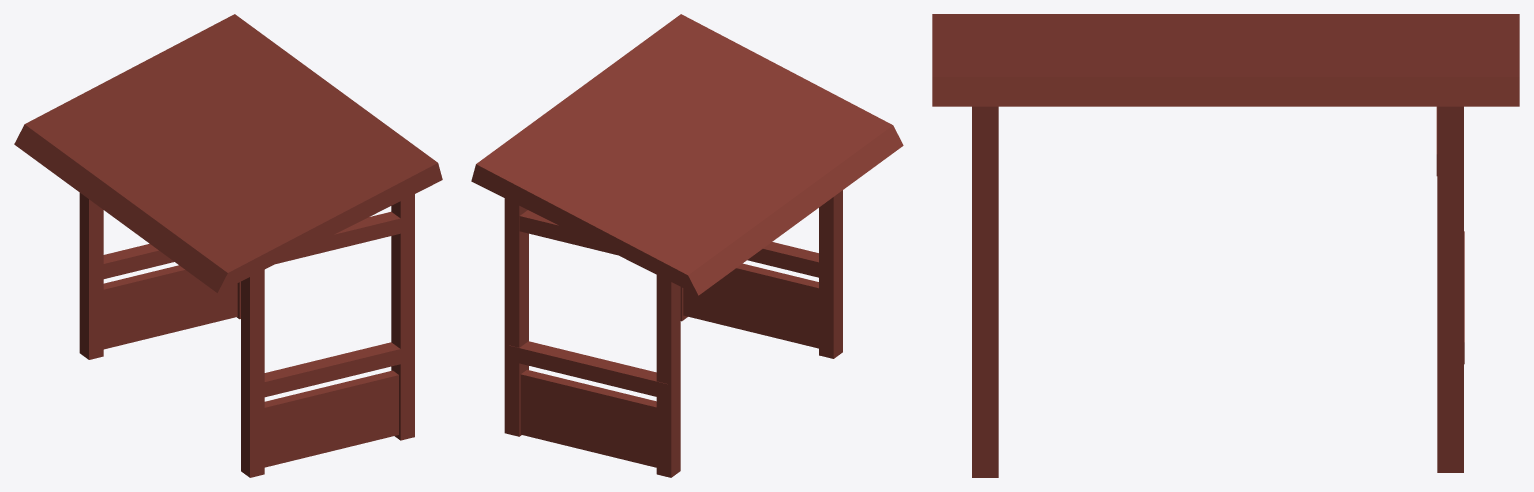
The model's file is canopy_0.fbx.
3 views of the same model, side by side, from view 1: azimuth 30°, elevation 25°; view 2: azimuth 150°, elevation 25°; view 3: azimuth 270°, elevation 25° (orthographic). The views are drawn at different scales.
Parts seen in each view (by area): view 1: canopy_0; view 2: canopy_0; view 3: canopy_0.
Part boxes in pixels (x1=…): canopy_0: x1=14, y1=14, x2=442, y2=477; canopy_0: x1=471, y1=14, x2=903, y2=477; canopy_0: x1=932, y1=14, x2=1519, y2=477.
Size of the model in its own units: 452 by 542 by 707.
